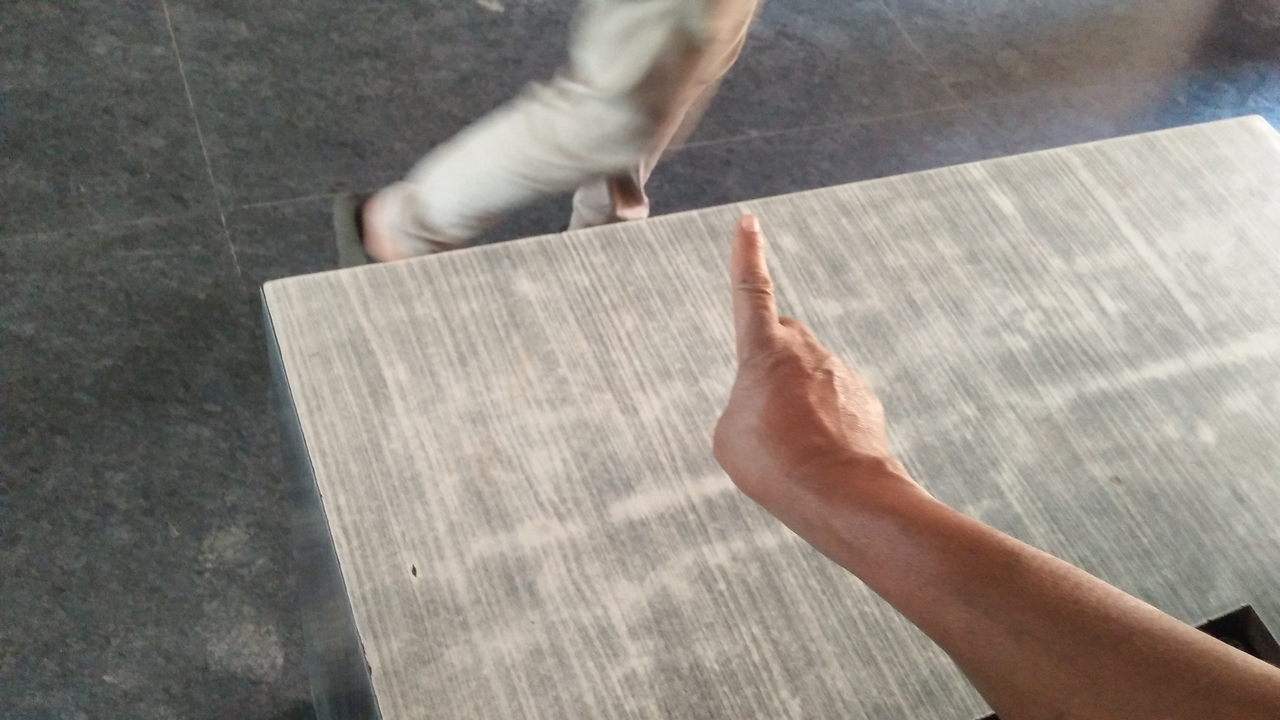fingertip: (722, 198, 778, 246)
